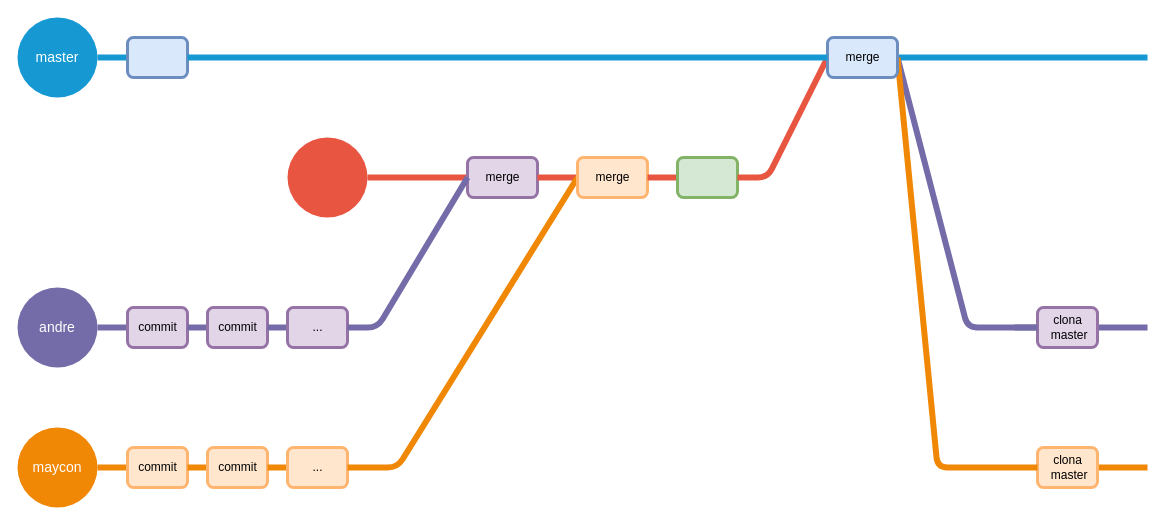
This 1168x524 diagram has some shape labels left out. The centre of each missing label's shape, as x and y in pixels:
"commit inicial" belongs at point 157,57.
"dev Andre Maycon" belongs at point 327,177.
"resolver conflitos" belongs at point 707,177.
